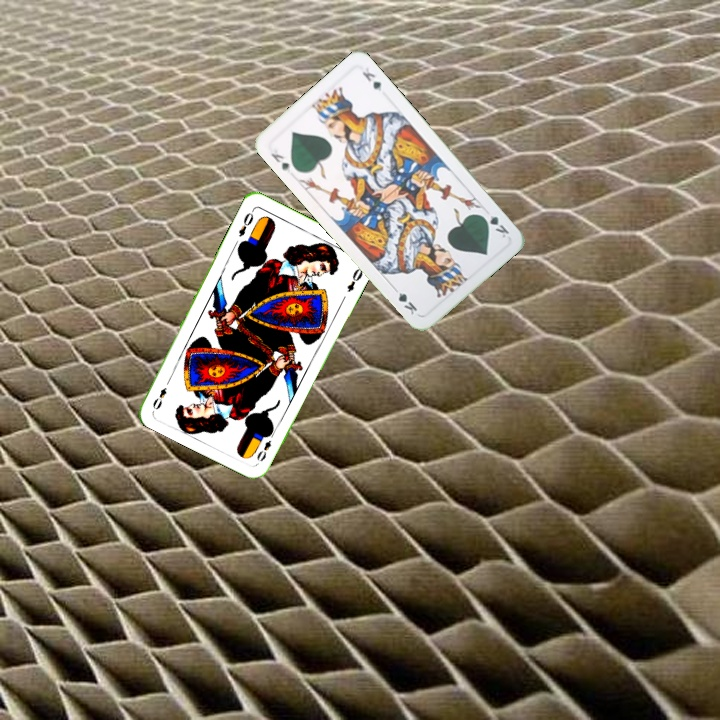EO: (253, 427, 278, 464), (234, 206, 256, 239)
GK: (477, 210, 512, 241), (267, 149, 293, 175)
